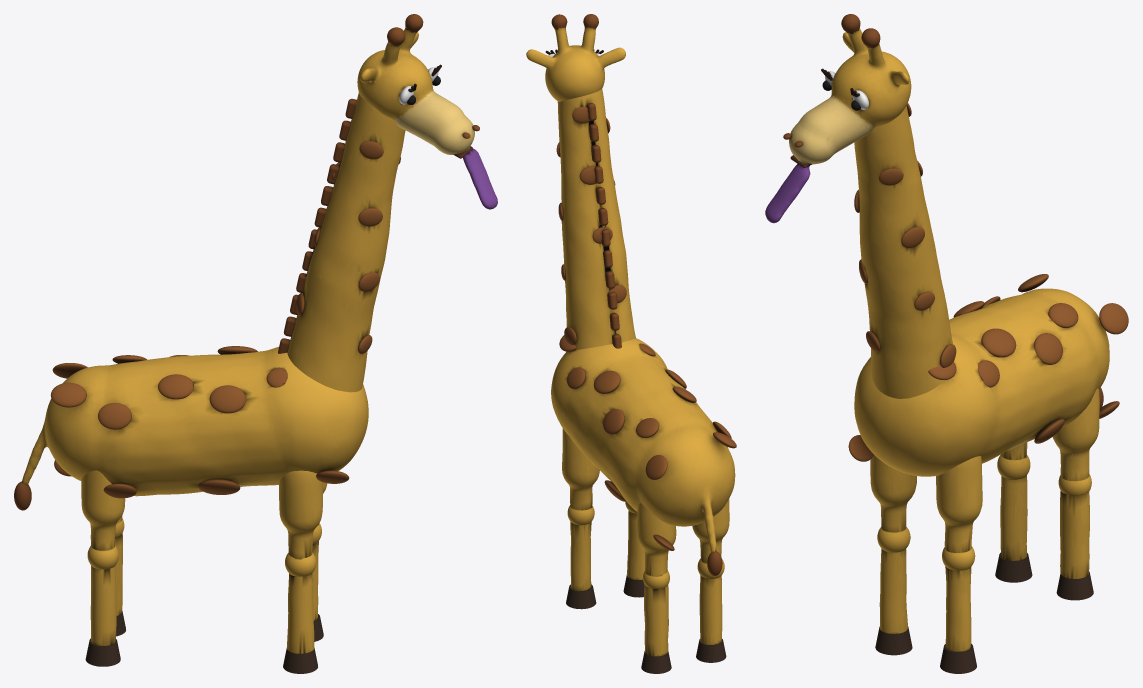
Rendered from varsagod.glb.
3 renders of one model, left to right at view 1: azimuth 30°, elevation 25°; view 2: azimuth 150°, elevation 25°; view 3: azimuth 270°, elevation 25°, orthographic. The views are drawn at different scales.
Parts seen in each view (by area): view 1: corpo__r0, pescoco__r0, pernas__r0, cabeca__r0, corpo__r12, corpo__r10, corpo__r5, corpo__r3, pernas__r2; view 2: corpo__r0, pescoco__r0, pernas__r0, cabeca__r0, pernas__r8, pernas__r2, pernas__r4, corpo__r6, corpo__r16, corpo__r14, pernas__r7, corpo__r4 (+3 smaller); view 3: corpo__r0, pescoco__r0, pernas__r0, cabeca__r0, pernas__r8, pernas__r2, corpo__r6, pernas__r6, pernas__r4, corpo__r14, corpo__r16, pernas__r5 (+3 smaller).
Part boxes in pixels (x1,y1,x2,y2): corpo__r0: (22,346,368,496); pescoco__r0: (287,92,405,392); pernas__r0: (81,470,327,653); cabeca__r0: (357,14,497,209); corpo__r12: (209,385,245,413); corpo__r10: (98,403,131,429); corpo__r5: (158,374,193,399); corpo__r3: (50,382,86,407); pernas__r2: (85,638,120,666); corpo__r0: (551,338,735,552); pescoco__r0: (557,89,635,349); pernas__r0: (562,428,729,656); cabeca__r0: (526,14,625,101); pernas__r8: (566,584,596,609); pernas__r2: (696,639,726,662); pernas__r4: (641,651,671,673); corpo__r6: (593,370,620,393); corpo__r16: (603,409,624,434); corpo__r14: (645,455,667,479); pernas__r7: (567,505,594,525); corpo__r4: (636,418,659,437); corpo__r0: (854,288,1109,476); pescoco__r0: (854,106,954,398); pernas__r0: (870,388,1099,651); cabeca__r0: (765,14,911,223); pernas__r8: (940,644,976,673); pernas__r2: (995,552,1032,582); corpo__r6: (981,328,1016,357); pernas__r6: (875,626,912,655); pernas__r4: (1056,571,1093,600); corpo__r14: (1099,303,1128,334); corpo__r16: (1034,333,1062,364); pernas__r5: (877,527,910,552).
Size of the model in its own units: 2.07 by 3.78 by 1.86.
